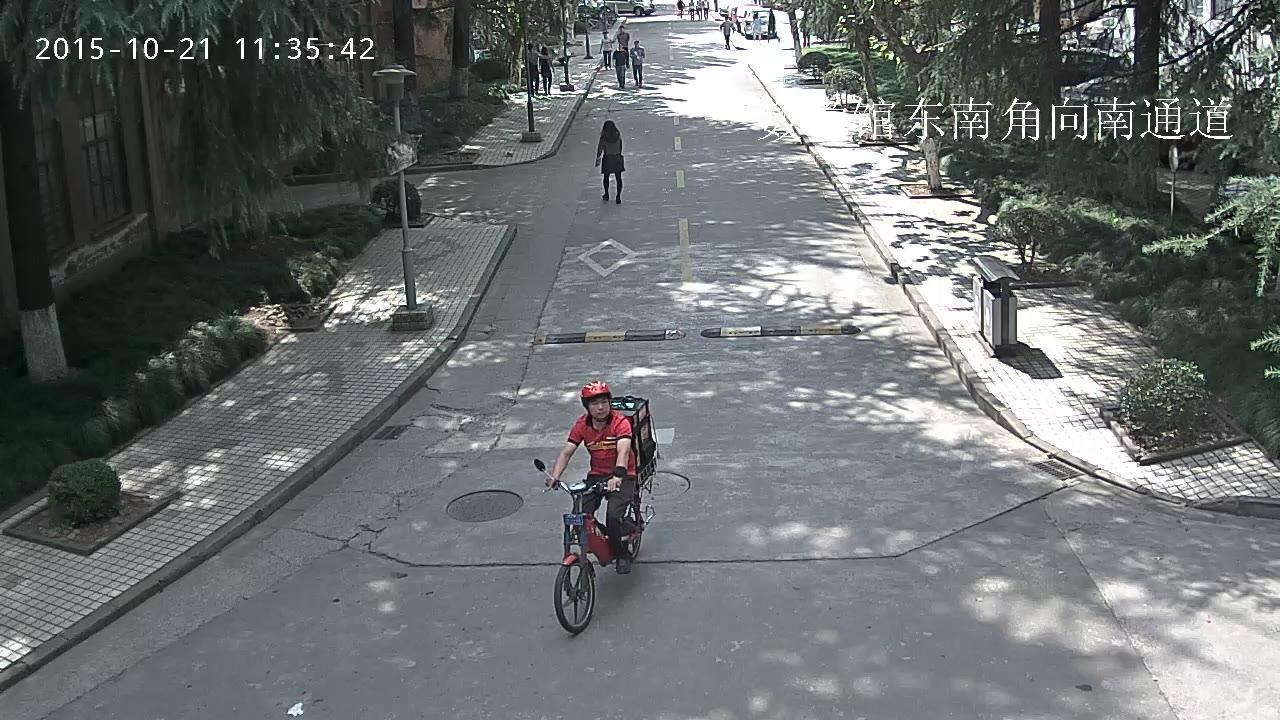person: (534, 379, 658, 634), (546, 379, 635, 573), (595, 121, 622, 203), (613, 45, 629, 87), (525, 43, 538, 94), (629, 40, 643, 87), (539, 47, 550, 94), (617, 25, 629, 67), (720, 15, 731, 47), (601, 33, 611, 68), (751, 11, 761, 40), (767, 10, 776, 39), (802, 28, 809, 47), (688, 0, 694, 22), (695, 0, 701, 20), (703, 0, 709, 19), (677, 0, 683, 17)
